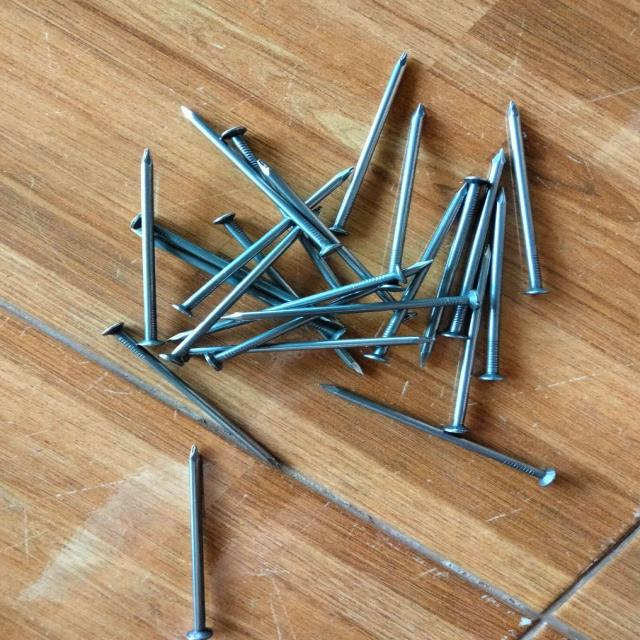3x10 nail: (169, 38, 419, 258), (474, 89, 556, 397), (138, 425, 245, 640), (117, 145, 185, 363)
